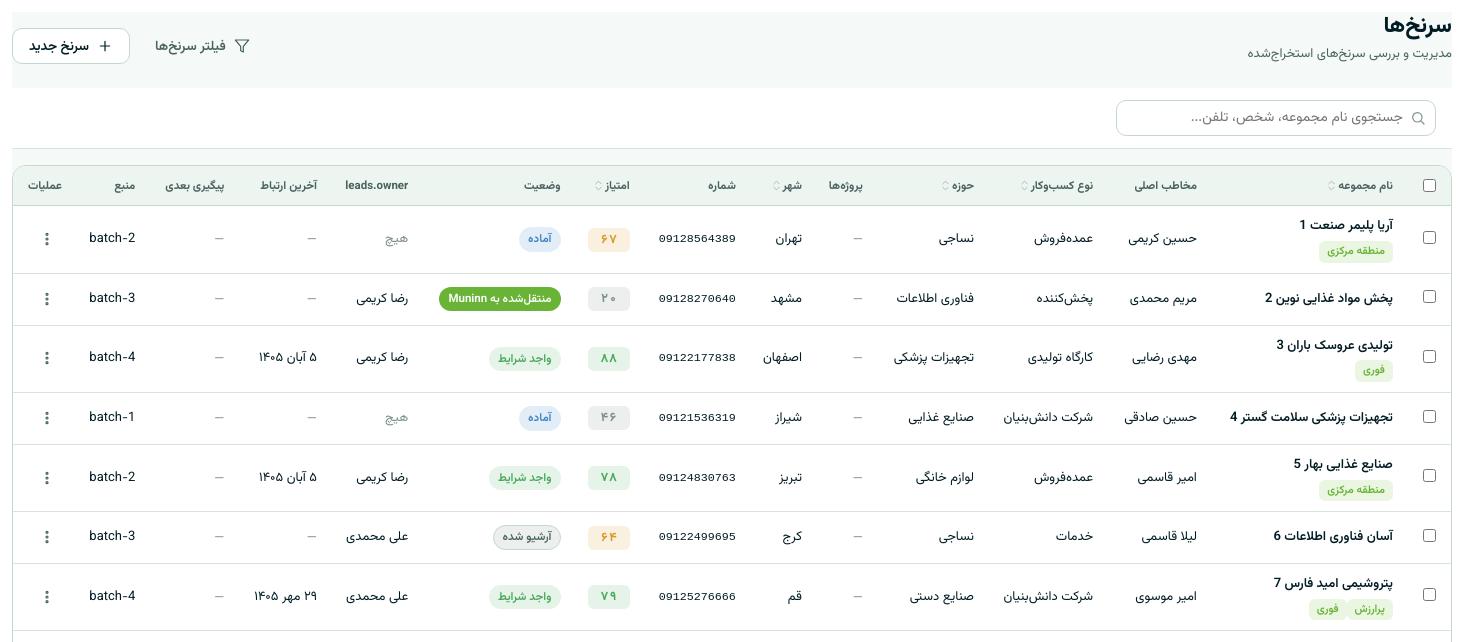
Scenario: lead filters › filters leads by search term
This screenshot has width=1464, height=642.
Expected: the link "آریا پلیمر صنعت 1" is shown, [1299,216,1393,236]
Type "عروسک" into the search field at (1276, 118), box [1116,100,1436,136]
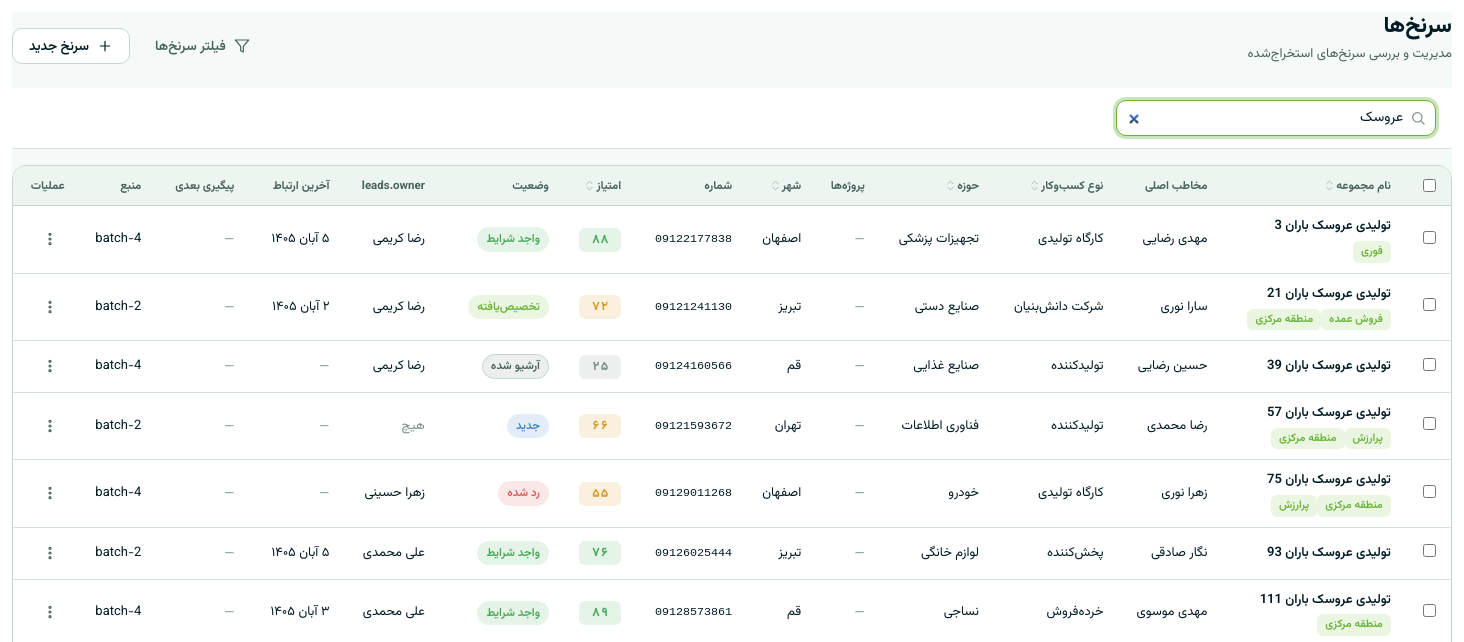
Expected: no links "آریا پلیمر صنعت" are shown
Expected: the link "تولیدی عروسک باران 3" is shown, [1274,216,1391,236]
